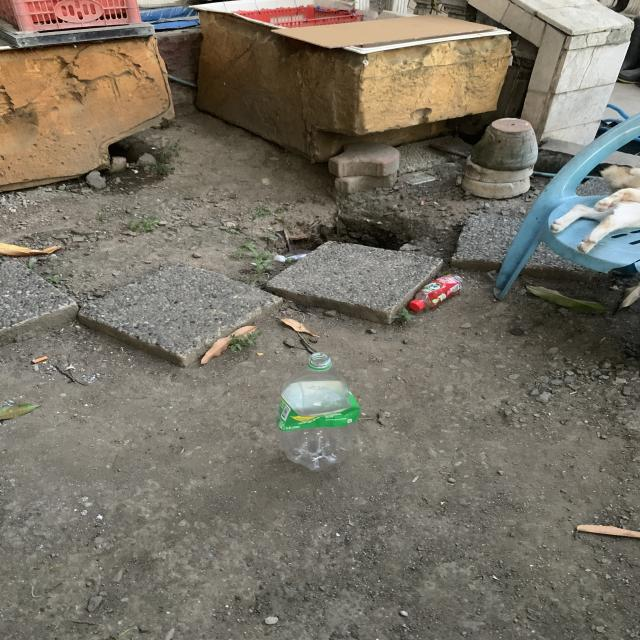Bottle: (277, 352, 360, 471)
